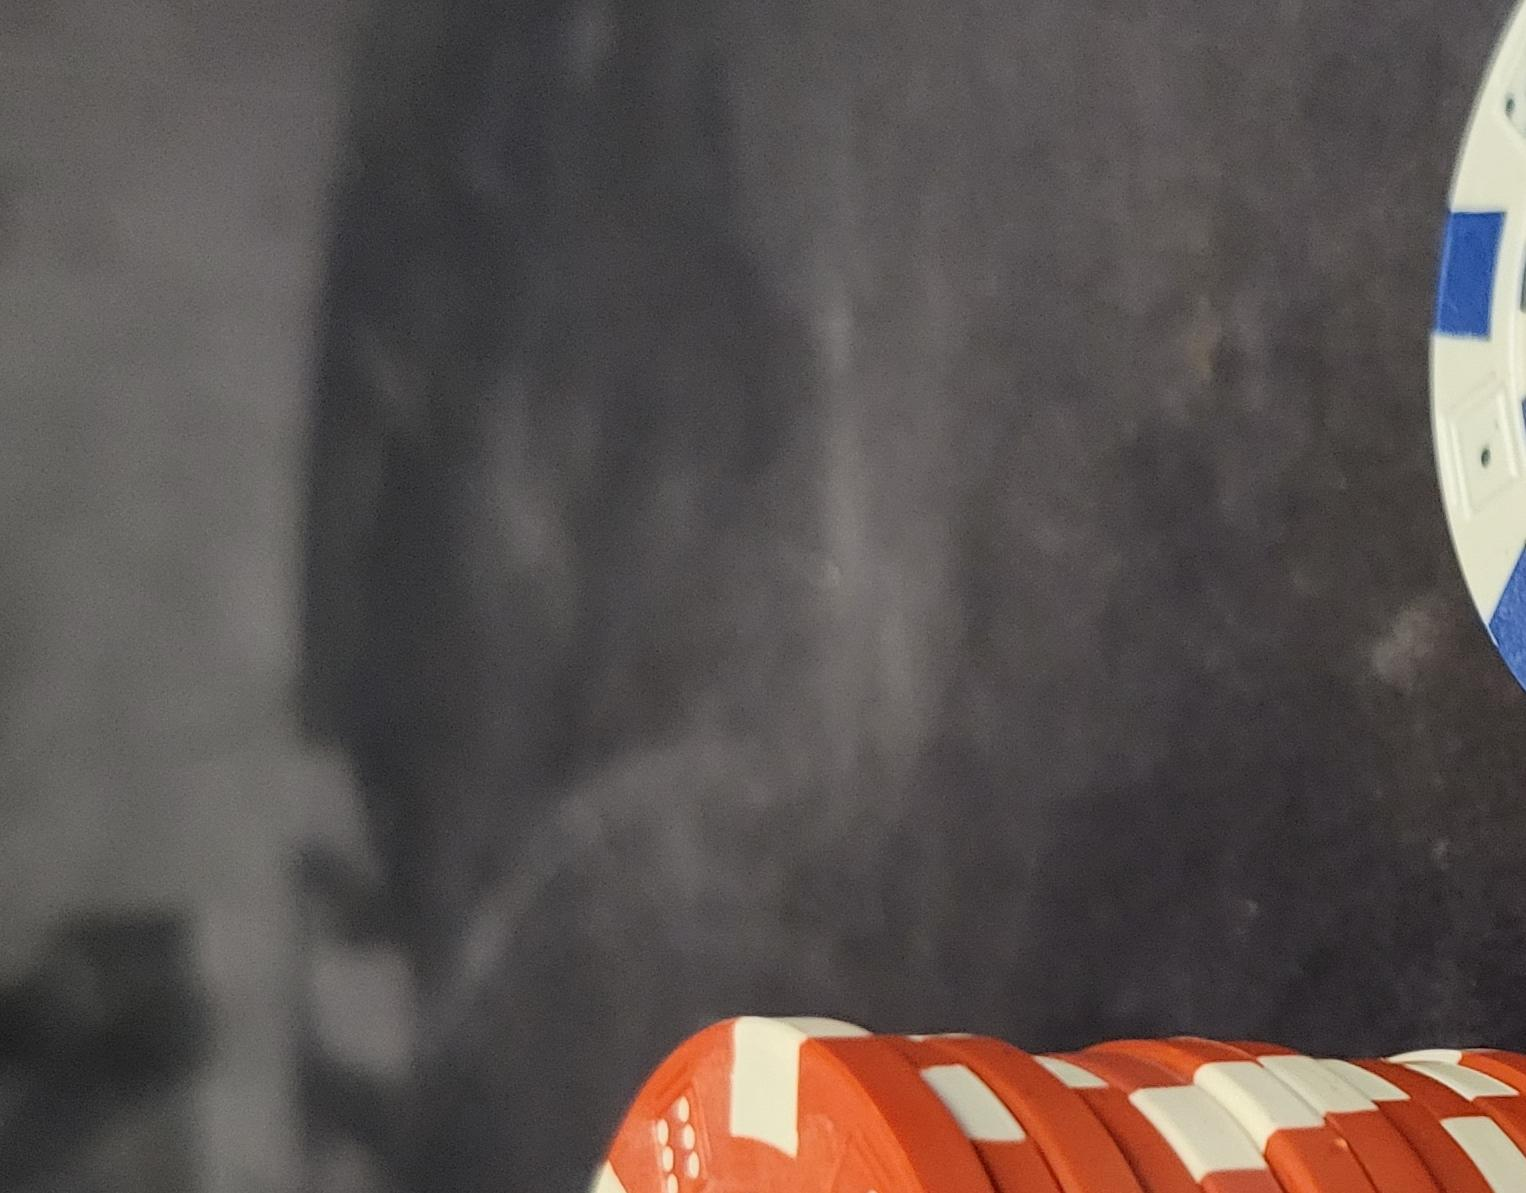Chip: (1, 202, 1050, 1193)
